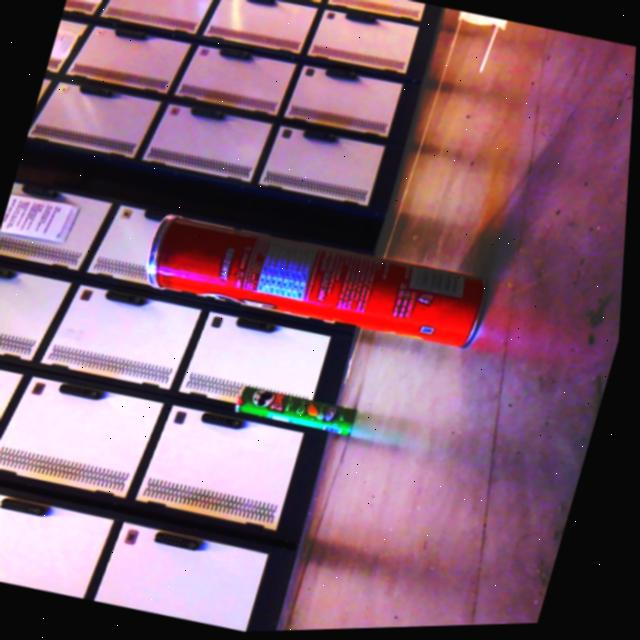greenpringles: (220, 364, 407, 469)
redpringles: (122, 191, 519, 383)
